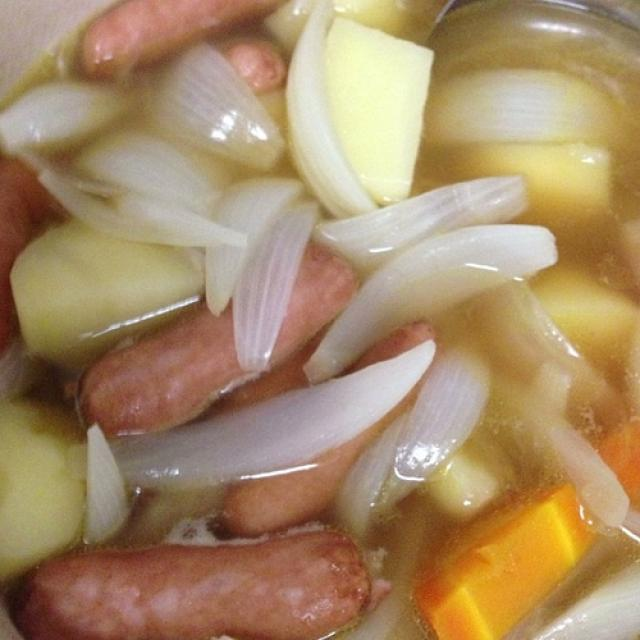汤锅炖物: (4, 5, 635, 626)
